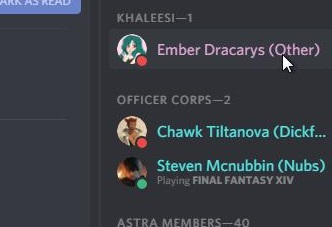cursor: (280, 52, 297, 76)
